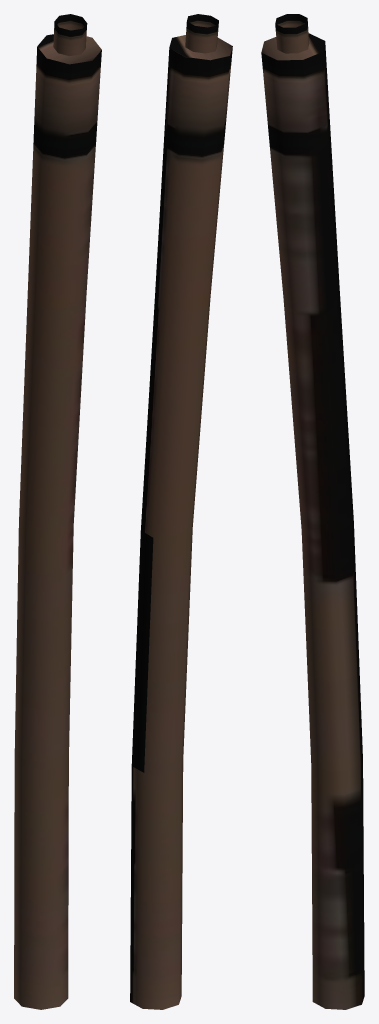
3 views of the same model, side by side, from view 1: azimuth 90°, elevation 25°; view 2: azimuth 150°, elevation 25°; view 3: azimuth 330°, elevation 25° (orthographic).
Parts seen in each view (by area): view 1: body0_model0_lod0_mesh0; view 2: body0_model0_lod0_mesh0; view 3: body0_model0_lod0_mesh0.
Part boxes in pixels (x1,y1,x2,y2): body0_model0_lod0_mesh0: (14, 14, 101, 1009); body0_model0_lod0_mesh0: (130, 14, 232, 1009); body0_model0_lod0_mesh0: (261, 14, 364, 1009).
Size of the model in its own units: 1.8 by 20.21 by 1.62.
Materials: 1 (1 with a texture image).
